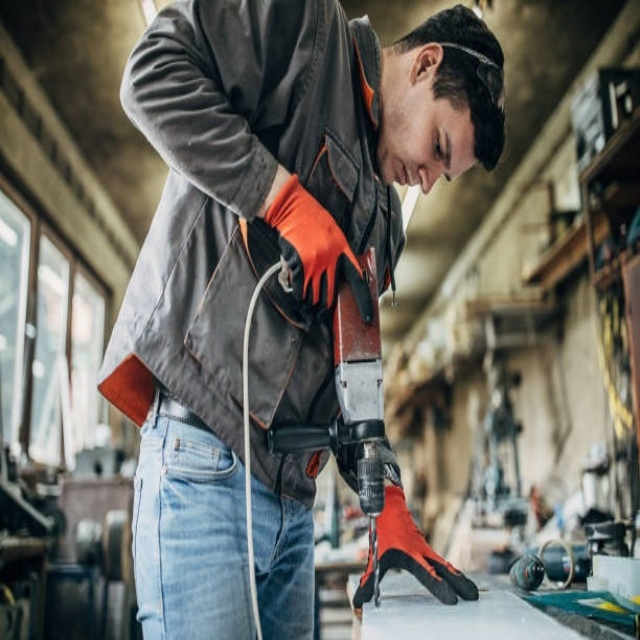Guantes: (353, 481, 479, 609), (258, 173, 366, 317)
Sin_gafas: (427, 111, 456, 190)
Sin_mascara: (385, 152, 425, 195)
